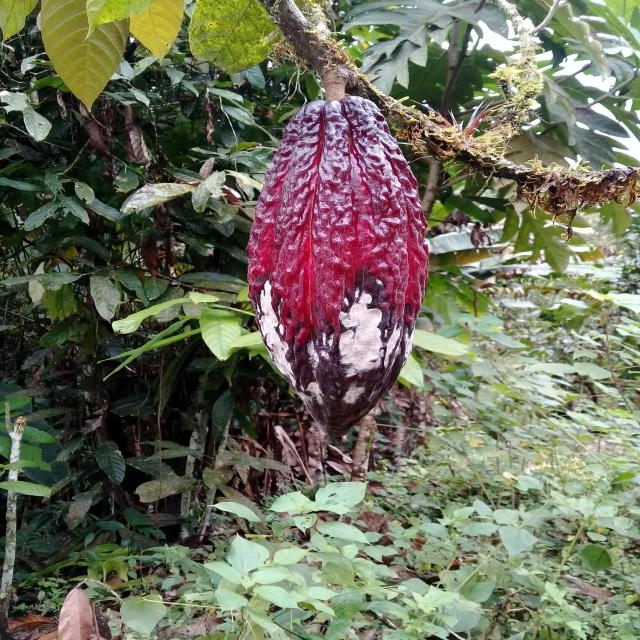Monilia: (247, 95, 430, 441)
